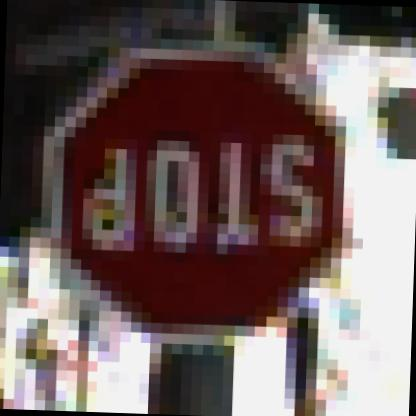stop: (38, 44, 346, 348)
